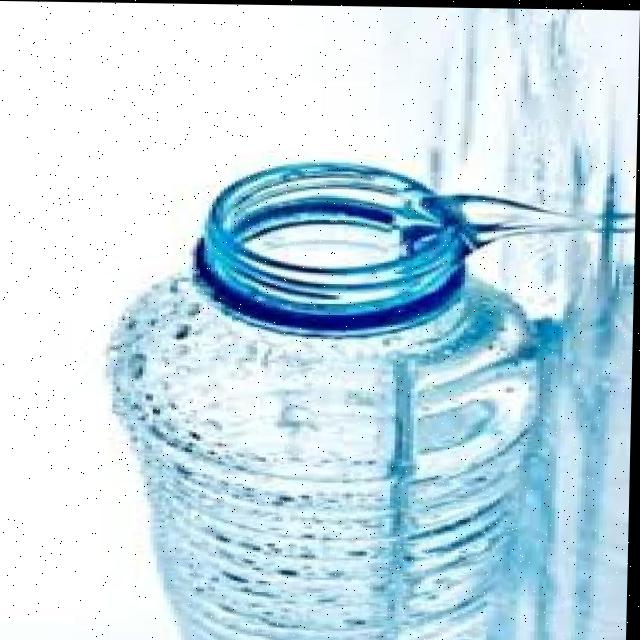bottle: (66, 117, 562, 640)
